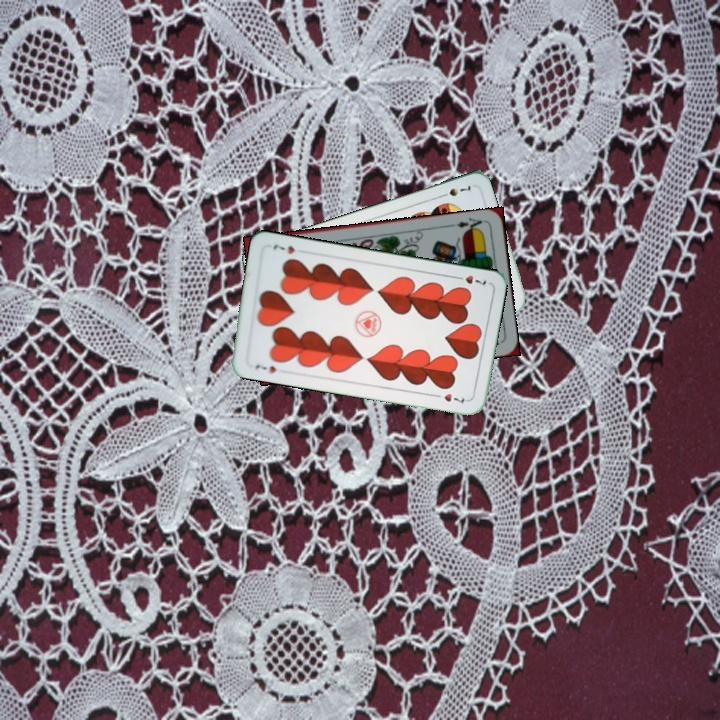EA: (453, 214, 484, 235)
H7: (450, 271, 489, 288), (251, 360, 285, 376)
S7: (435, 181, 475, 200)
